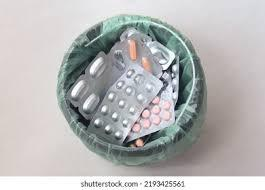pill_Strip: (87, 64, 162, 144), (67, 40, 129, 119), (67, 42, 130, 119), (67, 52, 124, 119), (126, 74, 174, 141), (120, 27, 174, 77), (108, 28, 161, 77), (67, 52, 105, 118), (110, 31, 161, 77), (109, 35, 161, 77), (67, 52, 105, 108), (127, 104, 173, 140), (128, 34, 161, 77), (92, 52, 126, 93), (128, 109, 172, 140), (146, 41, 175, 69), (108, 42, 131, 71), (67, 75, 88, 106), (161, 71, 174, 111), (120, 27, 151, 42), (88, 56, 106, 77), (82, 93, 99, 113), (109, 50, 126, 70), (171, 56, 178, 104), (71, 80, 86, 101), (126, 135, 150, 147), (161, 71, 172, 90), (161, 68, 172, 85), (128, 39, 136, 60), (128, 138, 144, 147), (142, 57, 151, 71), (151, 104, 161, 114), (161, 72, 170, 82), (162, 112, 173, 120), (132, 122, 140, 132), (162, 101, 171, 109), (134, 138, 143, 146), (142, 110, 150, 117), (152, 96, 159, 103), (124, 88, 131, 93)
